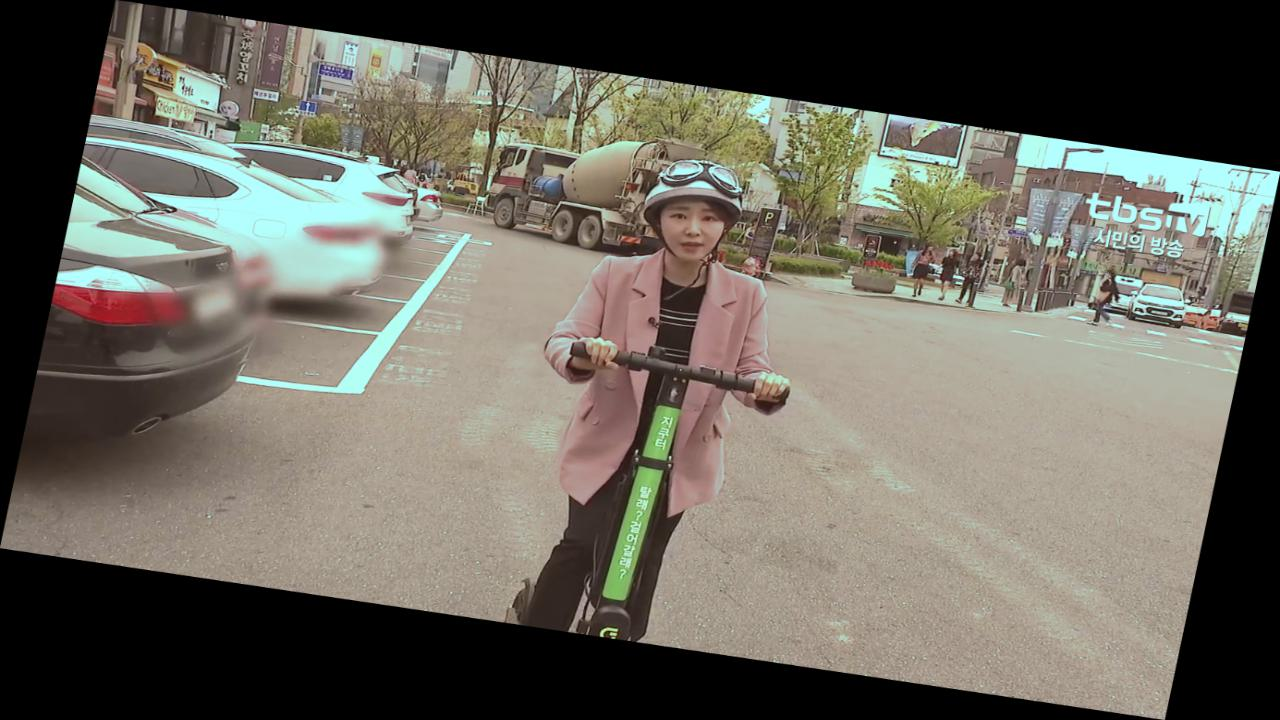helmet: (487, 143, 839, 657)
